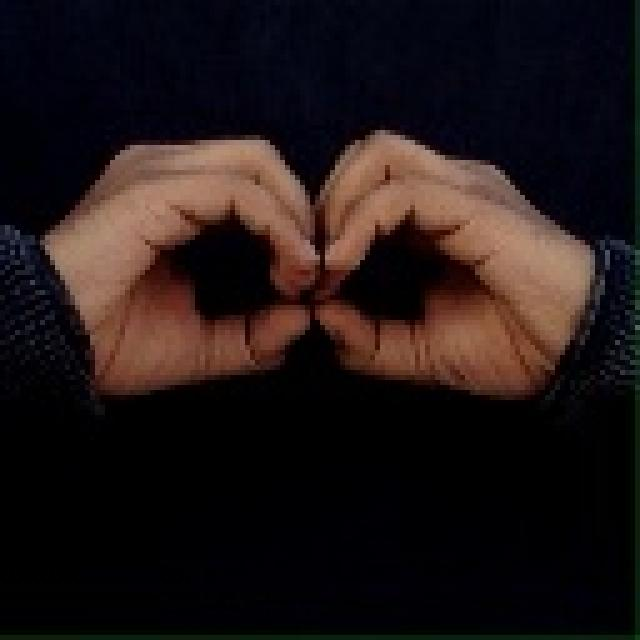B: (45, 125, 596, 399)
